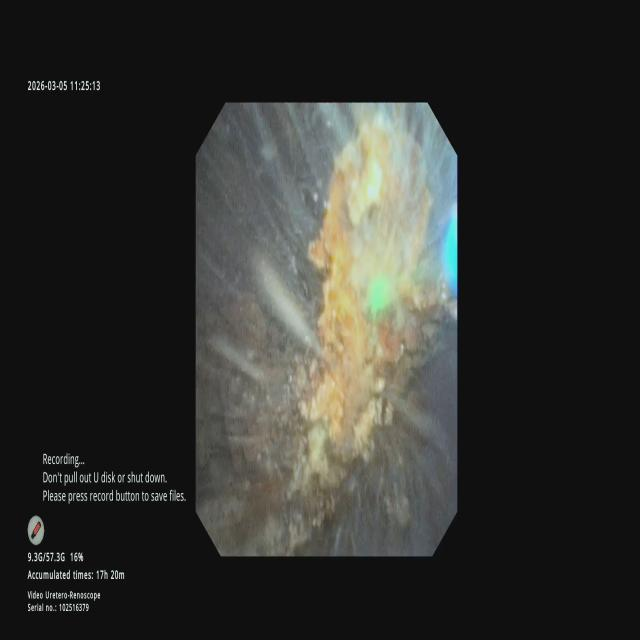laser_dot: (368, 276, 390, 319)
stone-new: (205, 112, 453, 537)
